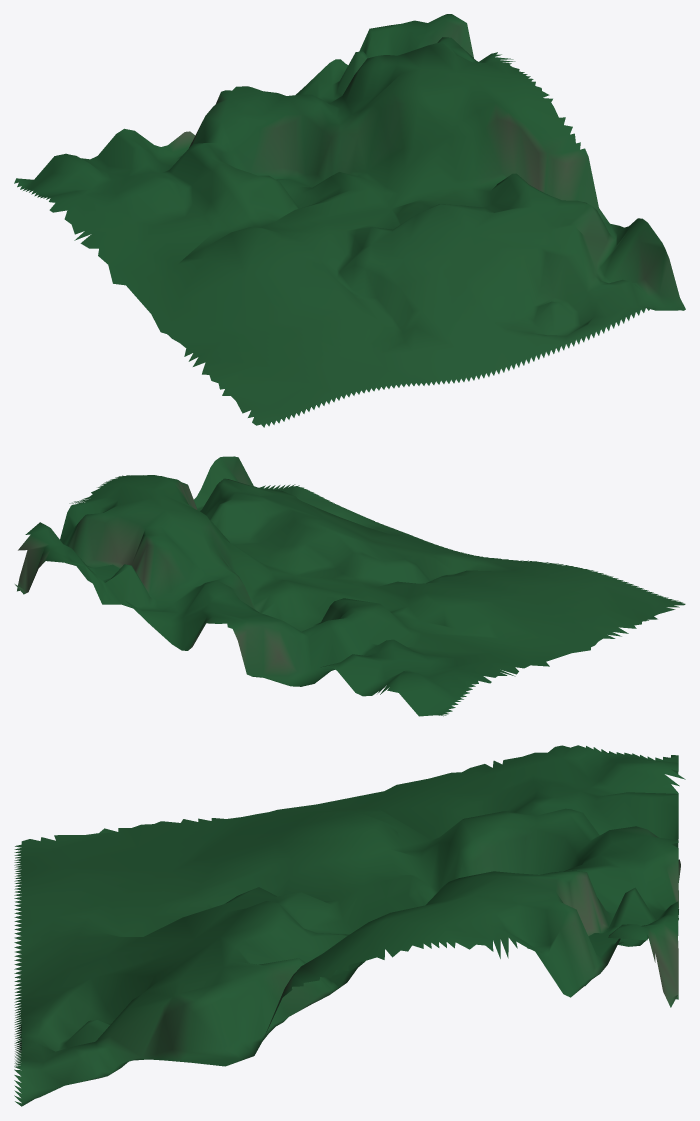
Rendered from payo_land_x1_y4_lod2.glb.
The picture shows the model from 3 angles, top to bottom: view 1: azimuth 30°, elevation 25°; view 2: azimuth 150°, elevation 25°; view 3: azimuth 270°, elevation 25°; orthographic projection. The views are drawn at different scales.
Parts seen in each view (by area): view 1: payo_land_x1_y4; view 2: payo_land_x1_y4; view 3: payo_land_x1_y4.
Boxes of the visible parts, <box> form: payo_land_x1_y4: <box>14,14,685,427</box>; payo_land_x1_y4: <box>15,456,685,716</box>; payo_land_x1_y4: <box>14,745,685,1106</box>.
Size of the model in its own units: 268 by 85.9 by 261.
